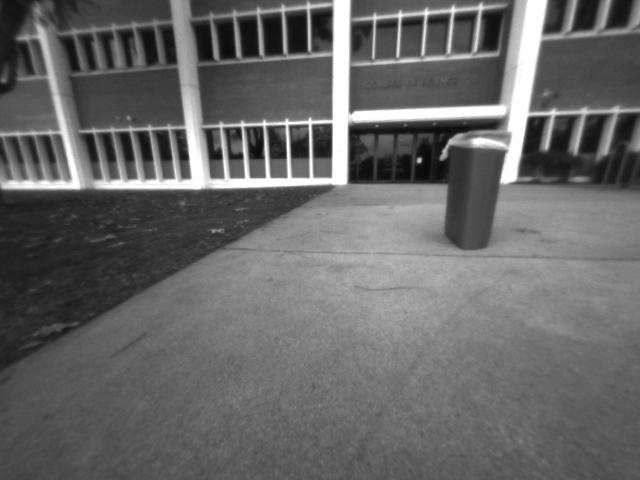trashcan: (436, 122, 520, 255)
